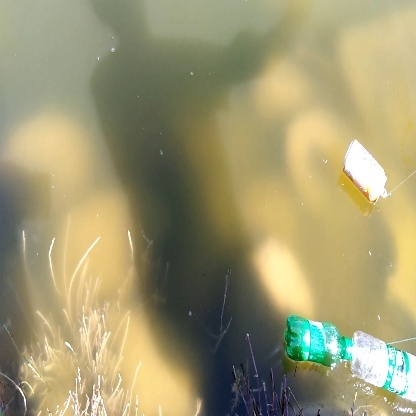bottle: (271, 308, 347, 373), (337, 135, 391, 207)
